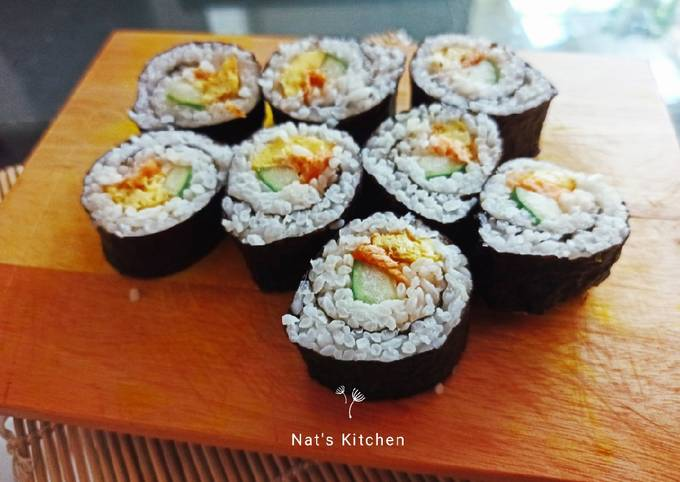sushi: (54, 5, 643, 401)
